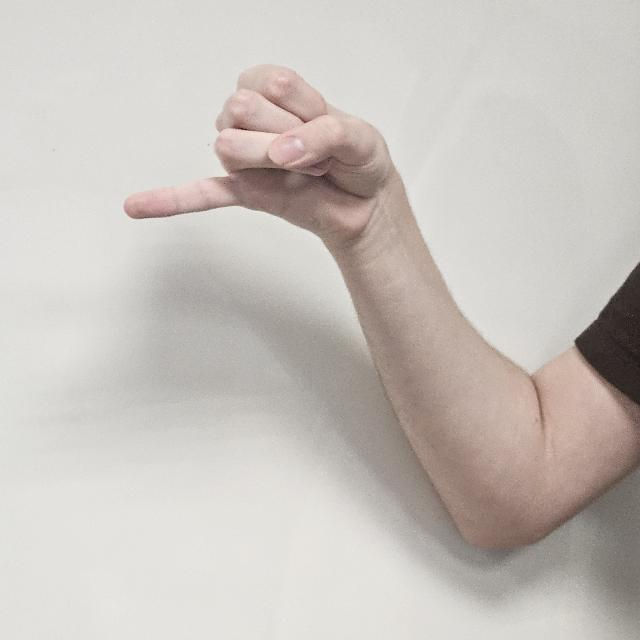Esquerda: (126, 23, 402, 288)
